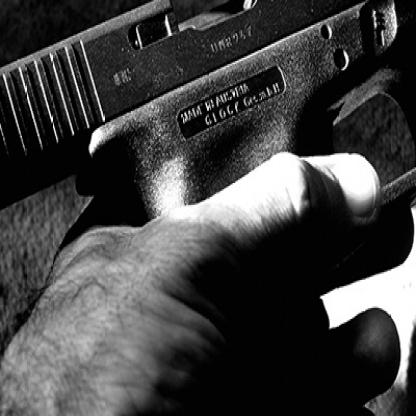gun: (0, 0, 415, 263)
